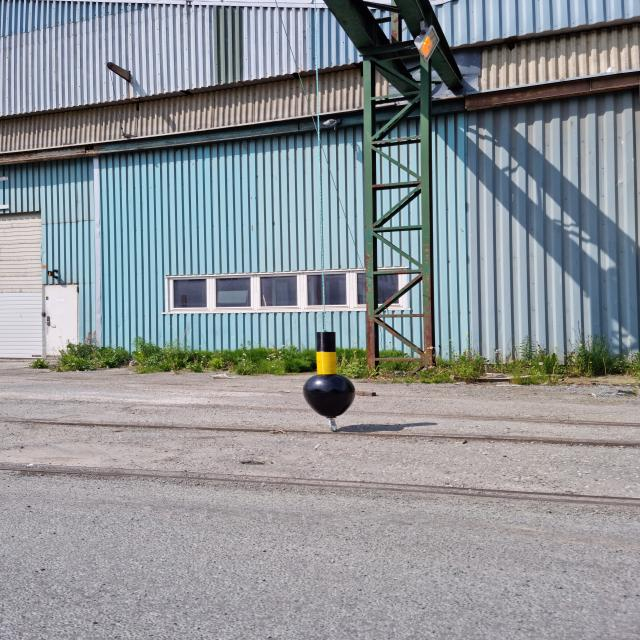east: (302, 331, 357, 418)
